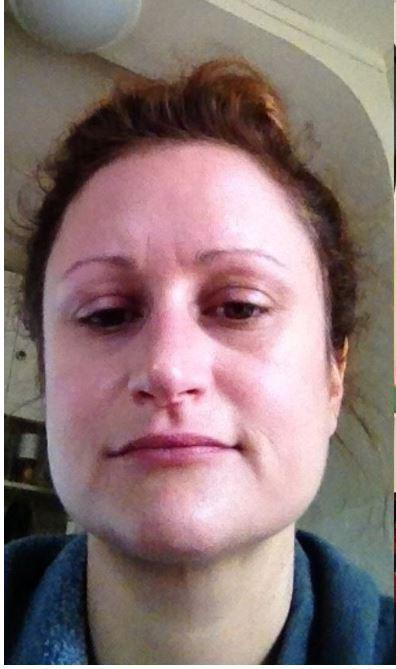Drunk: (55, 160, 320, 544)
